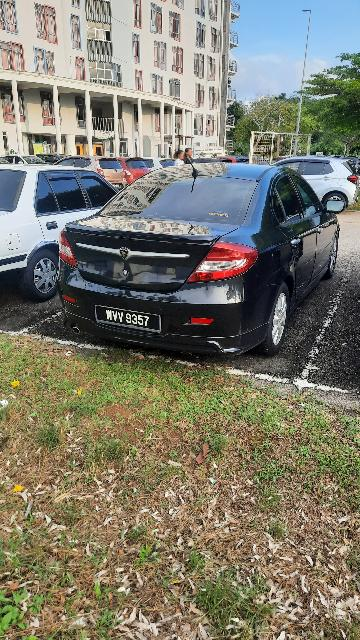License_Plate: (94, 304, 170, 342)
car: (54, 159, 349, 367), (2, 157, 135, 314)
